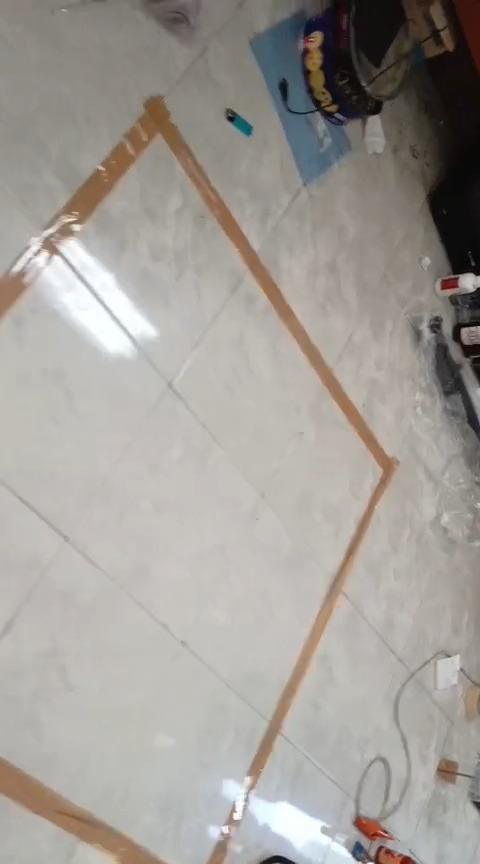floor marking: (0, 97, 397, 863), (0, 760, 166, 863)
